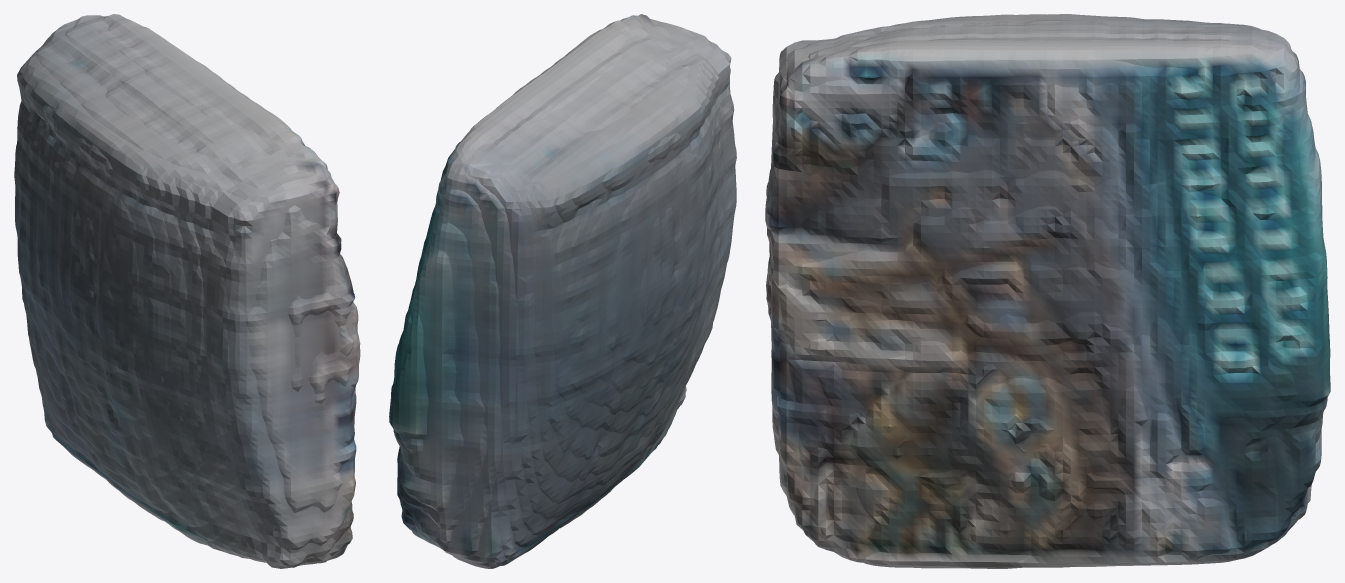
The model's file is leader-raccoon-artist.glb.
3 views of the same model, side by side, from view 1: azimuth 30°, elevation 25°; view 2: azimuth 150°, elevation 25°; view 3: azimuth 270°, elevation 25° (orthographic). The views are drawn at different scales.
Parts seen in each view (by area): view 1: world; view 2: world; view 3: world.
Boxes of the visible parts, left/top/right/bottom form: world: left=14, top=14, right=360, bottom=568; world: left=389, top=14, right=736, bottom=568; world: left=765, top=14, right=1330, bottom=568.
Bounding box in the file's own units: 0.4448 × 0.9601 × 0.9813.
